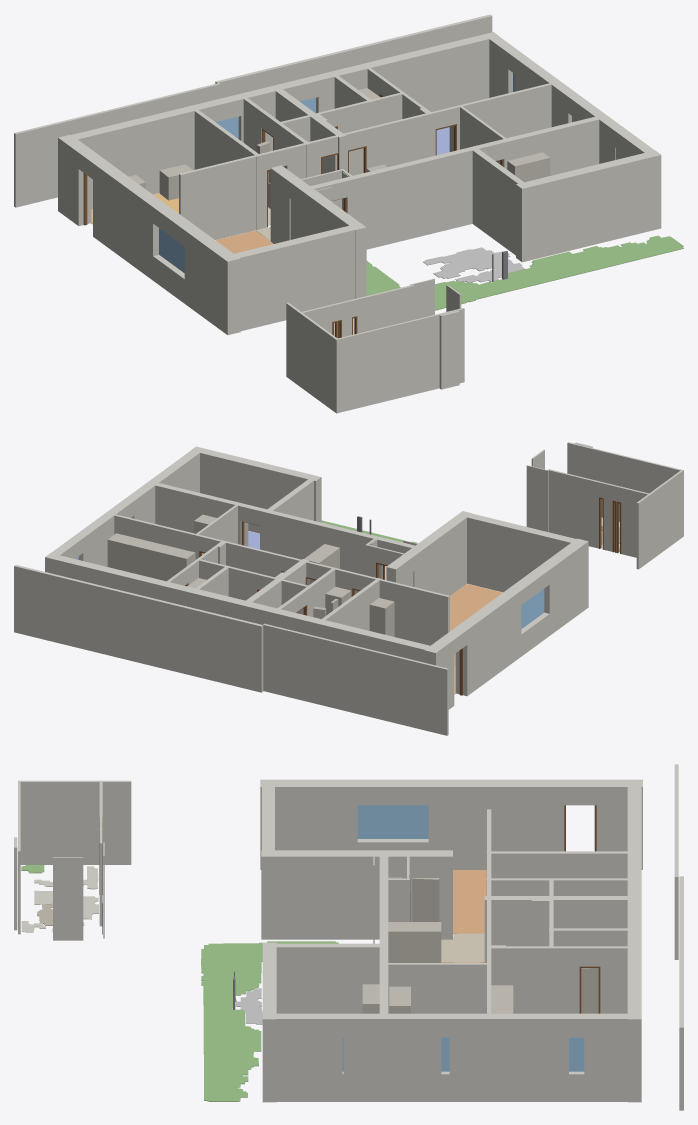
The picture shows the model from 3 angles, top to bottom: view 1: azimuth 30°, elevation 25°; view 2: azimuth 150°, elevation 25°; view 3: azimuth 270°, elevation 25°; orthographic projection. The views are drawn at different scales.
Visible parts, largest first — view 1: walls, floor_14_Outdoor, floor_17_Garage, furniture_12_closet, floor_1_Living_Room, window_9, furniture_19_sink; view 2: walls, furniture_7_closet, floor_1_Living_Room, furniture_5_closet, furniture_8_closet, window_9; view 3: walls, floor_14_Outdoor, window_9, furniture_8_closet, floor_1_Living_Room, floor_2_Entry, furniture_9_closet, floor_18_Undefined, furniture_0_closet, floor_17_Garage, furniture_7_closet, furniture_10_closet (+2 smaller).
Part boxes in pixels (left/top/right/bottom): walls: left=14, top=14, right=661, bottom=413; floor_14_Outdoor: left=366, top=235, right=683, bottom=310; floor_17_Garage: left=423, top=247, right=524, bottom=282; furniture_12_closet: left=507, top=152, right=550, bottom=182; floor_1_Living_Room: left=216, top=230, right=273, bottom=253; window_9: left=159, top=228, right=184, bottom=272; furniture_19_sink: left=159, top=164, right=192, bottom=200; walls: left=14, top=442, right=683, bottom=735; furniture_7_closet: left=107, top=533, right=195, bottom=581; floor_1_Living_Room: left=450, top=584, right=502, bottom=665; furniture_5_closet: left=369, top=598, right=394, bottom=636; furniture_8_closet: left=304, top=544, right=339, bottom=584; window_9: left=521, top=589, right=544, bottom=628; walls: left=14, top=764, right=683, bottom=1110; floor_14_Outdoor: left=201, top=941, right=338, bottom=1101; window_9: left=357, top=805, right=428, bottom=838; furniture_8_closet: left=388, top=922, right=441, bottom=962; floor_1_Living_Room: left=453, top=870, right=486, bottom=933; floor_2_Entry: left=441, top=933, right=484, bottom=962; furniture_9_closet: left=412, top=878, right=439, bottom=921; floor_18_Undefined: left=34, top=866, right=98, bottom=919; furniture_0_closet: left=581, top=968, right=598, bottom=1013; floor_17_Garage: left=235, top=988, right=262, bottom=1024; furniture_7_closet: left=491, top=985, right=513, bottom=1013; furniture_10_closet: left=389, top=986, right=410, bottom=1013.
Bounding box in the file's own units: 18.4 × 2.72 × 19.76.
